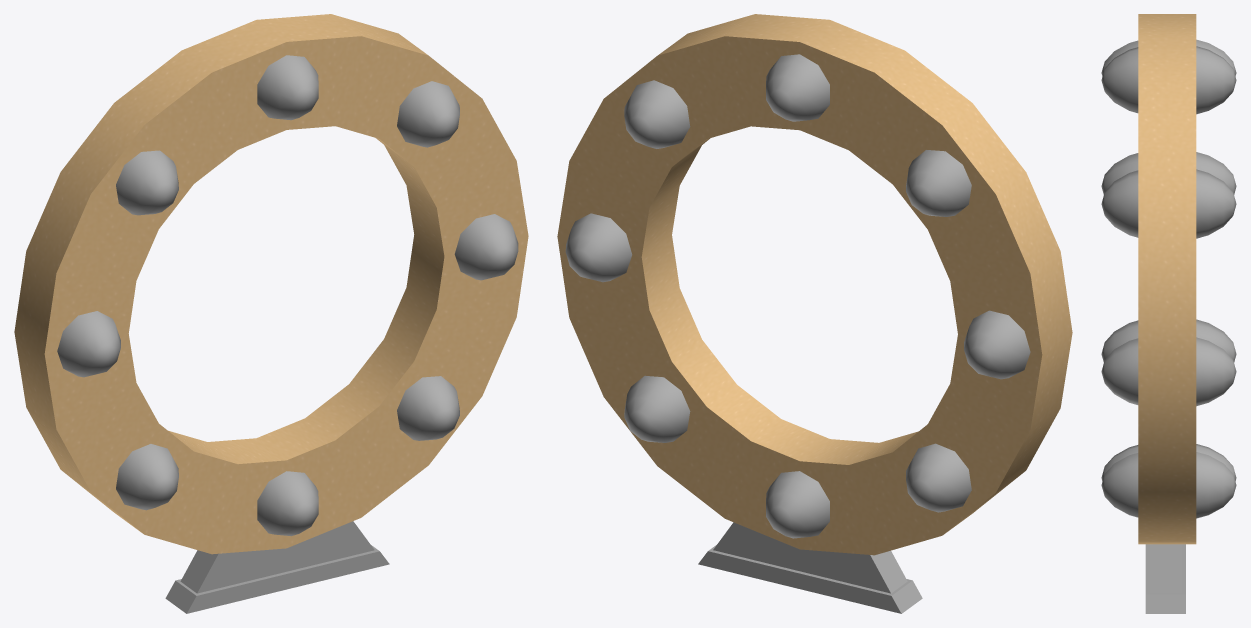
File: eye.fbx
3 renders of one model, left to right at view 1: azimuth 30°, elevation 25°; view 2: azimuth 150°, elevation 25°; view 3: azimuth 270°, elevation 25°, orthographic. The views are drawn at different scales.
Visible parts, largest first — view 1: pCube256; view 2: pCube256; view 3: pCube256.
Part boxes in pixels (x1,y1,x2,y2): pCube256: (14, 14, 528, 613); pCube256: (557, 14, 1072, 613); pCube256: (1101, 14, 1236, 613).
Size of the model in its own units: 1314 by 1431 by 332.
